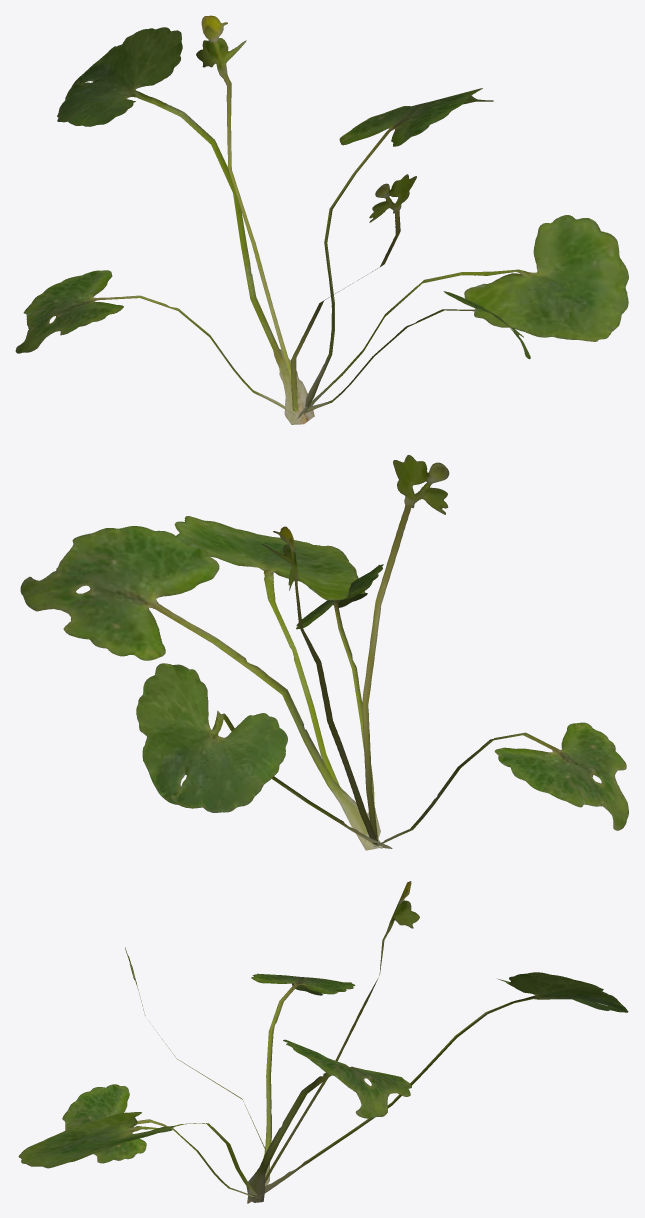
3 renders of one model, top to bottom at view 1: azimuth 30°, elevation 25°; view 2: azimuth 150°, elevation 25°; view 3: azimuth 270°, elevation 25°, orthographic. The views are drawn at different scales.
Parts seen in each view (by area): view 1: celandine_01__e_lod0; view 2: celandine_01__e_lod0; view 3: celandine_01__e_lod0.
Part boxes in pixels (box(x1,y1,x2,y2)): celandine_01__e_lod0: box(15, 15, 628, 424); celandine_01__e_lod0: box(20, 455, 628, 850); celandine_01__e_lod0: box(18, 881, 628, 1203).
Bounding box in the file's own units: 0.1883 × 0.1237 × 0.2163.
1 material, 1 textured.
